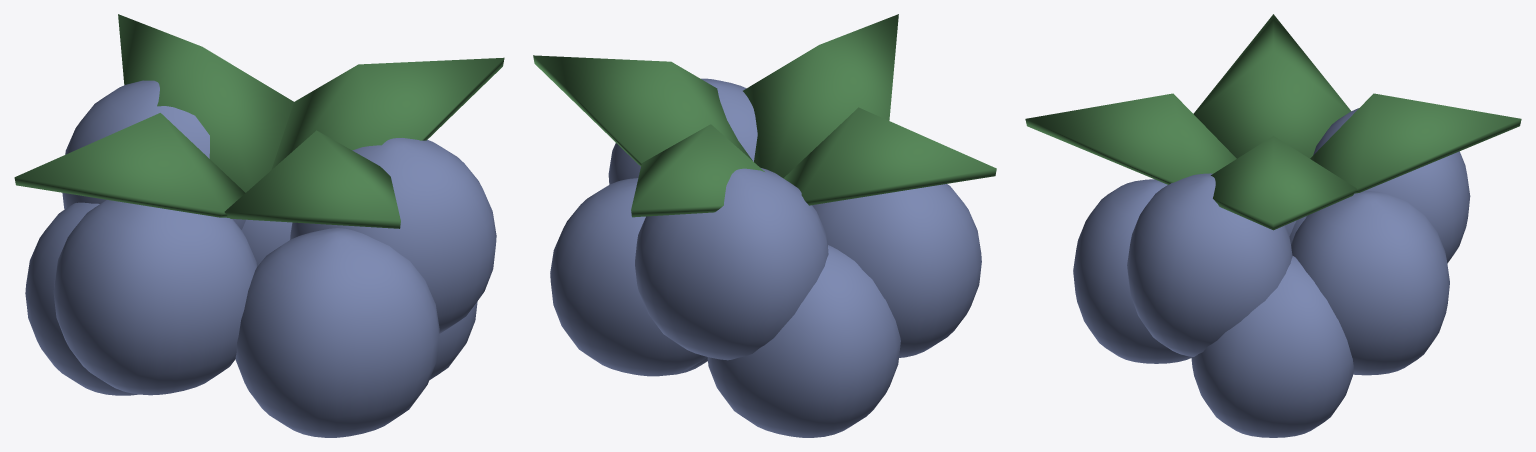
Rendered from produce_berry.glb.
3 renders of one model, left to right at view 1: azimuth 30°, elevation 25°; view 2: azimuth 150°, elevation 25°; view 3: azimuth 270°, elevation 25°, orthographic. The views are drawn at different scales.
Parts seen in each view (by area): view 1: produce_berry_crafted_mesh; view 2: produce_berry_crafted_mesh; view 3: produce_berry_crafted_mesh.
Boxes of the visible parts, box(x1,y1,x2,y2) form: produce_berry_crafted_mesh: box(14, 14, 504, 437); produce_berry_crafted_mesh: box(533, 14, 996, 437); produce_berry_crafted_mesh: box(1025, 14, 1521, 437).
Size of the model in its own units: 0.7185 by 0.4619 by 0.7185.
